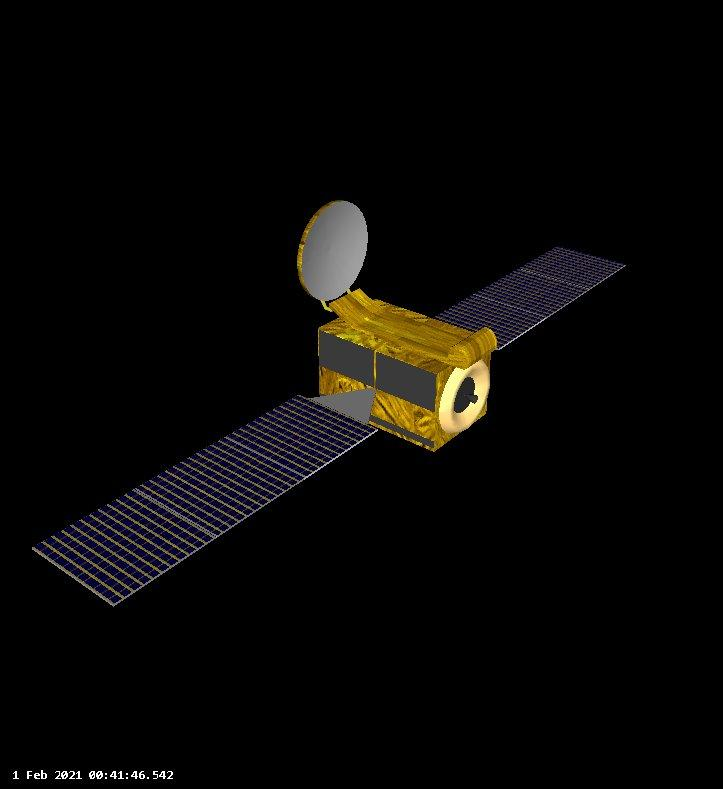antenna: (294, 198, 370, 304)
body: (315, 296, 493, 455)
solar: (29, 392, 380, 610), (431, 243, 629, 351)
thruster: (463, 392, 481, 406)
